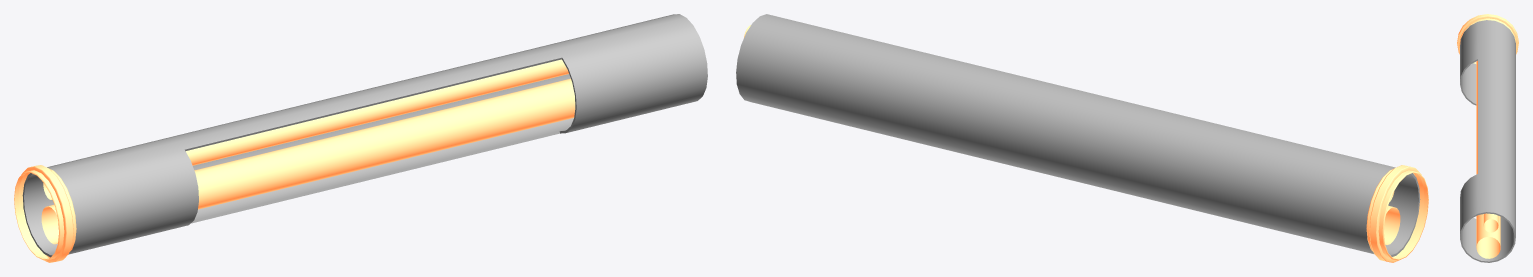
File: SM_Smallpipe2.fbx
3 views of the same model, side by side, from view 1: azimuth 30°, elevation 25°; view 2: azimuth 150°, elevation 25°; view 3: azimuth 270°, elevation 25° (orthographic). The views are drawn at different scales.
Parts seen in each view (by area): view 1: SM_Smallpipe2_LOD0; view 2: SM_Smallpipe2_LOD0; view 3: SM_Smallpipe2_LOD0.
Part boxes in pixels (<box>): SM_Smallpipe2_LOD0: <box>14,14,707,262</box>; SM_Smallpipe2_LOD0: <box>736,14,1428,262</box>; SM_Smallpipe2_LOD0: <box>1457,14,1518,262</box>.
Size of the model in its own units: 389 by 50.94 by 50.94.
